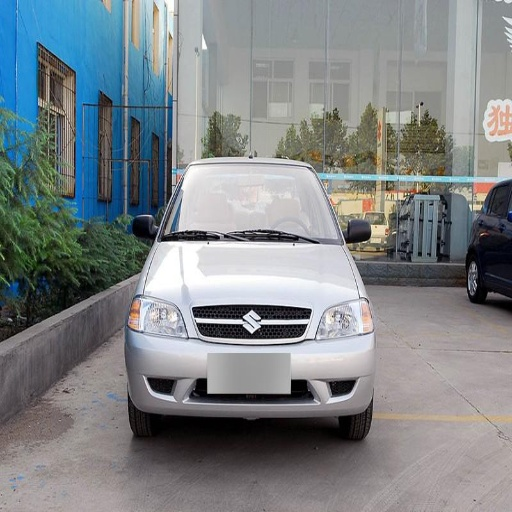front_bumper: (125, 309, 374, 417)
front_right_light: (128, 295, 187, 337)
hood: (146, 241, 358, 334)
